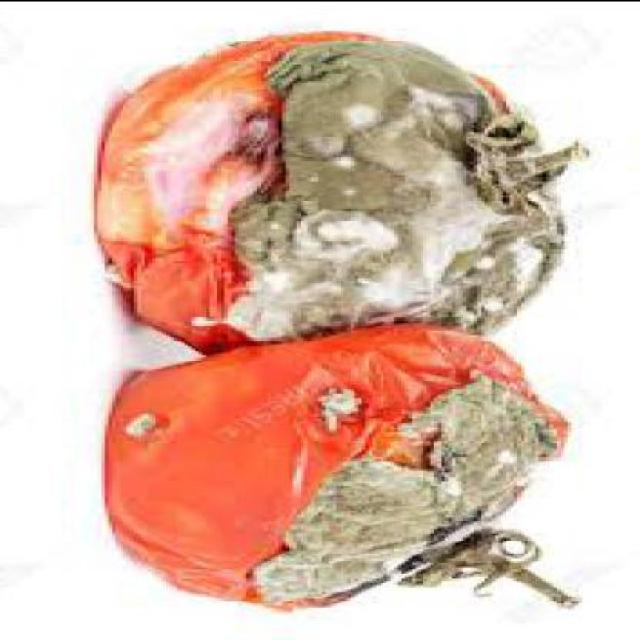BIODEGRADABLE: (99, 40, 580, 357), (108, 325, 572, 611)
